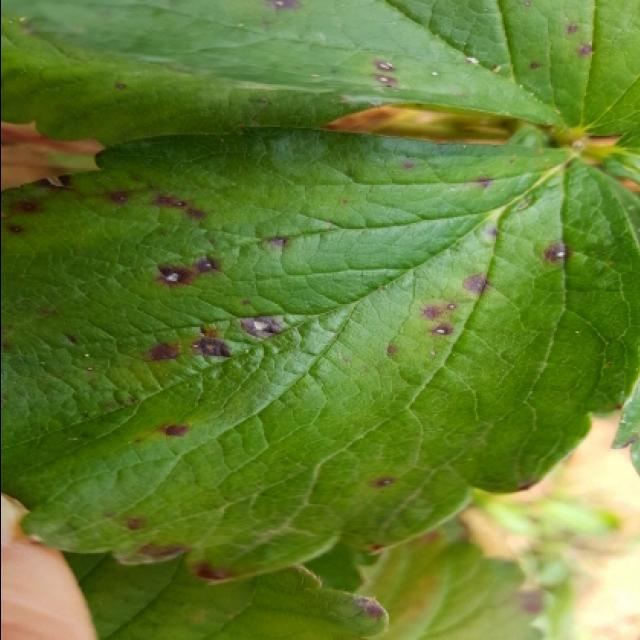Leaf Spot: (2, 127, 640, 580), (2, 2, 640, 140), (2, 20, 381, 145)
